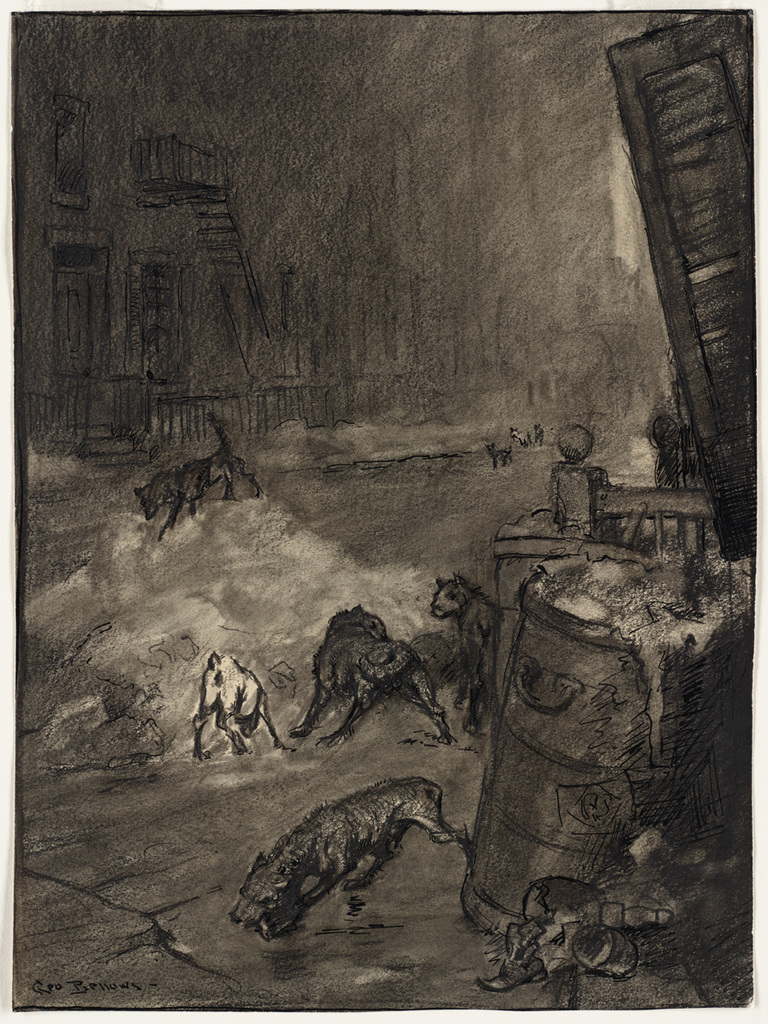Animal: (213, 777, 474, 941), (289, 610, 442, 733), (128, 412, 264, 546), (430, 584, 503, 746), (191, 644, 279, 764)
